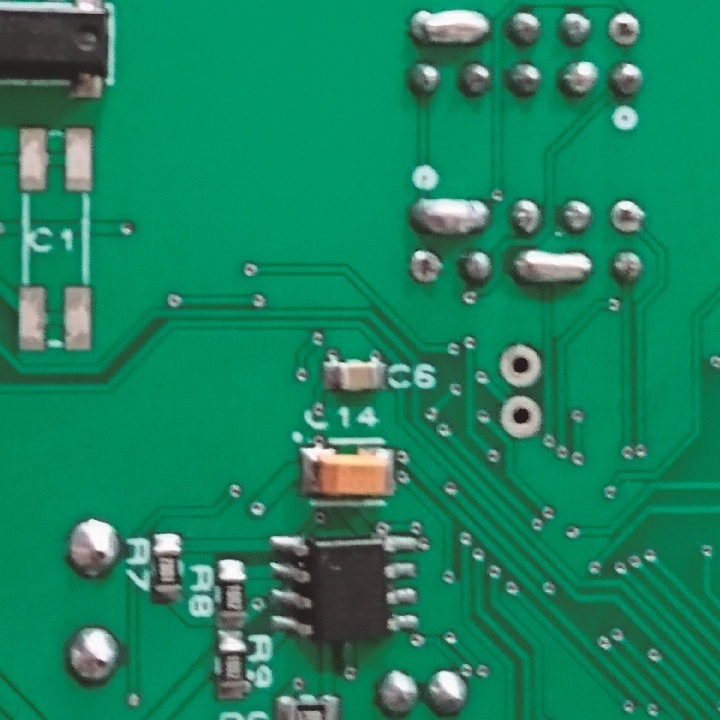F: (493, 343, 544, 390), (496, 394, 545, 440), (605, 9, 644, 49), (610, 199, 648, 233), (407, 248, 441, 286)
P: (407, 6, 493, 55), (410, 195, 488, 237), (510, 246, 593, 284)
